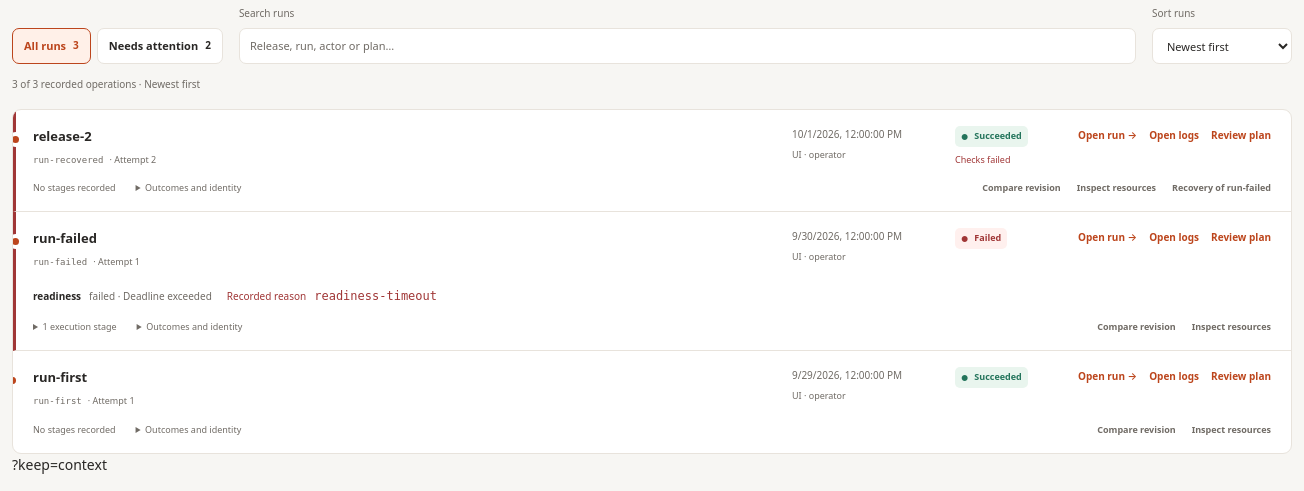
Scenario: recorded deployment activity › includes failed checks in attention filters and preserves unrelated URL state
Click the button "Needs attention 2" at point(160, 46), box x1=97 y1=28 x2=223 y2=64
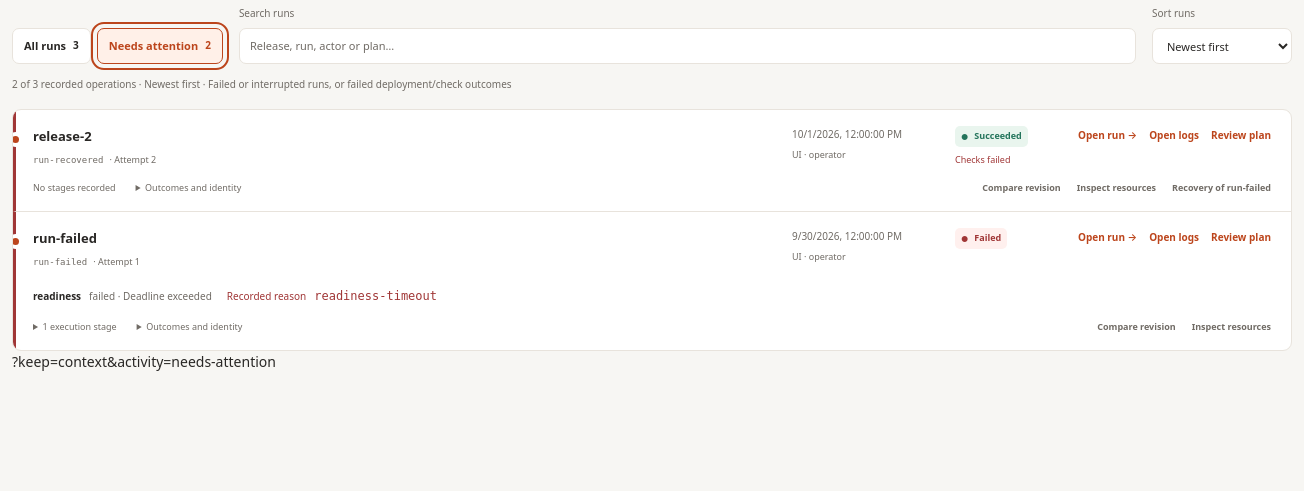
Now the text "Run run-first" is gone
Now the text named "Current query" reads "?keep=context&activity=needs-attention", box x1=12 y1=352 x2=276 y2=371
Type "release-2" into the search field labelled "Search runs" at point(687, 46), box x1=239 y1=28 x2=1136 y2=64
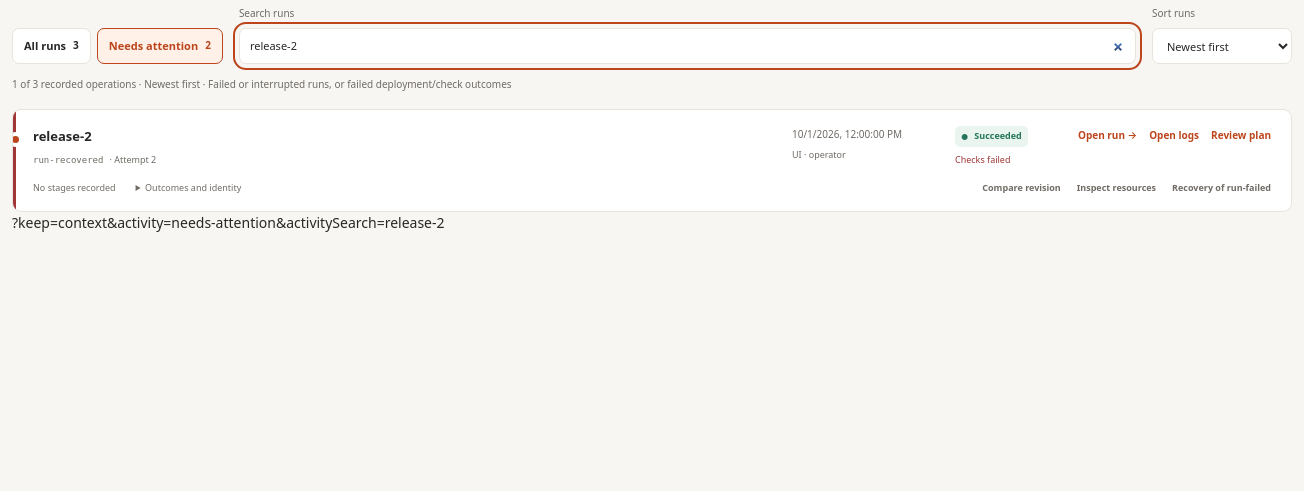
Expected: the element named "Run run-recovered" is shown, x1=16 y1=110 x2=1291 y2=212
Now the text named "Current query" shows "activitySearch=release-2", box x1=12 y1=214 x2=444 y2=232
Clear the search field at point(687, 46), box x1=239 y1=28 x2=1136 y2=64
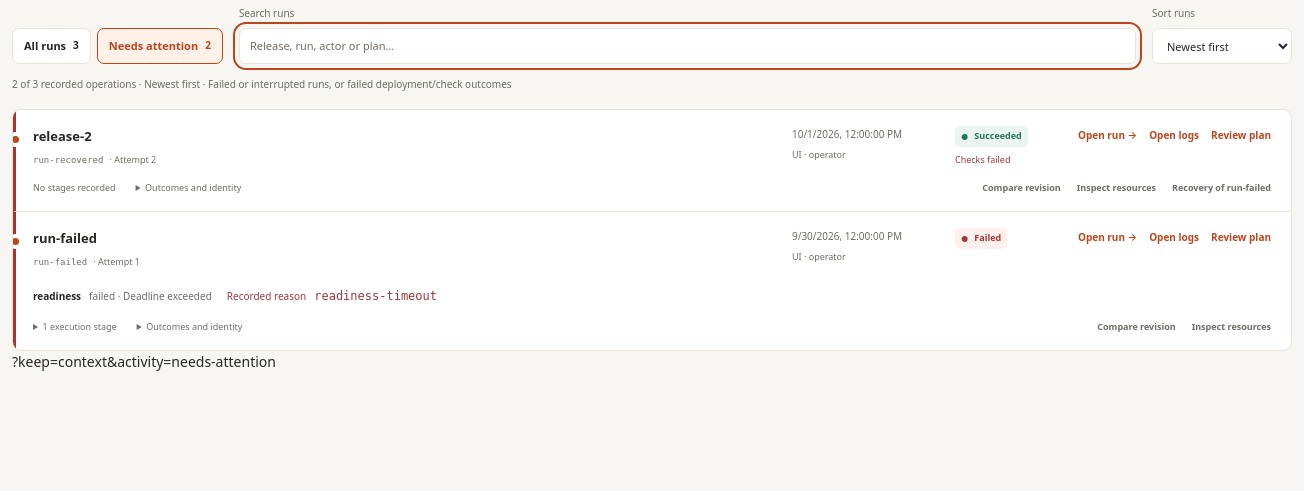
Click the button "All runs 3" at point(51, 46), box x1=12 y1=28 x2=91 y2=64
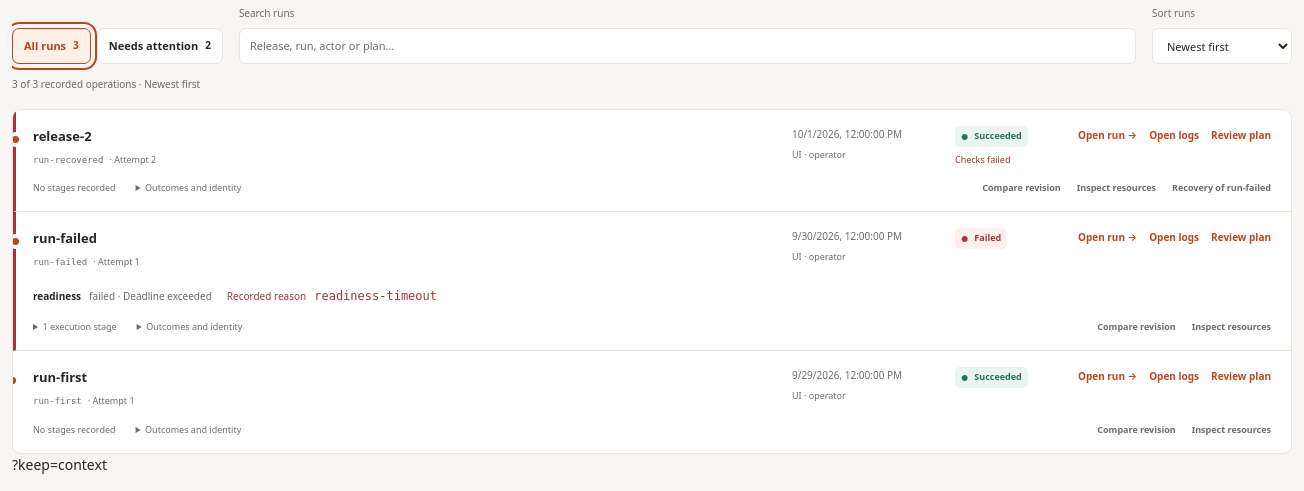
Now the text named "Current query" reads "?keep=context", box x1=12 y1=455 x2=107 y2=474
